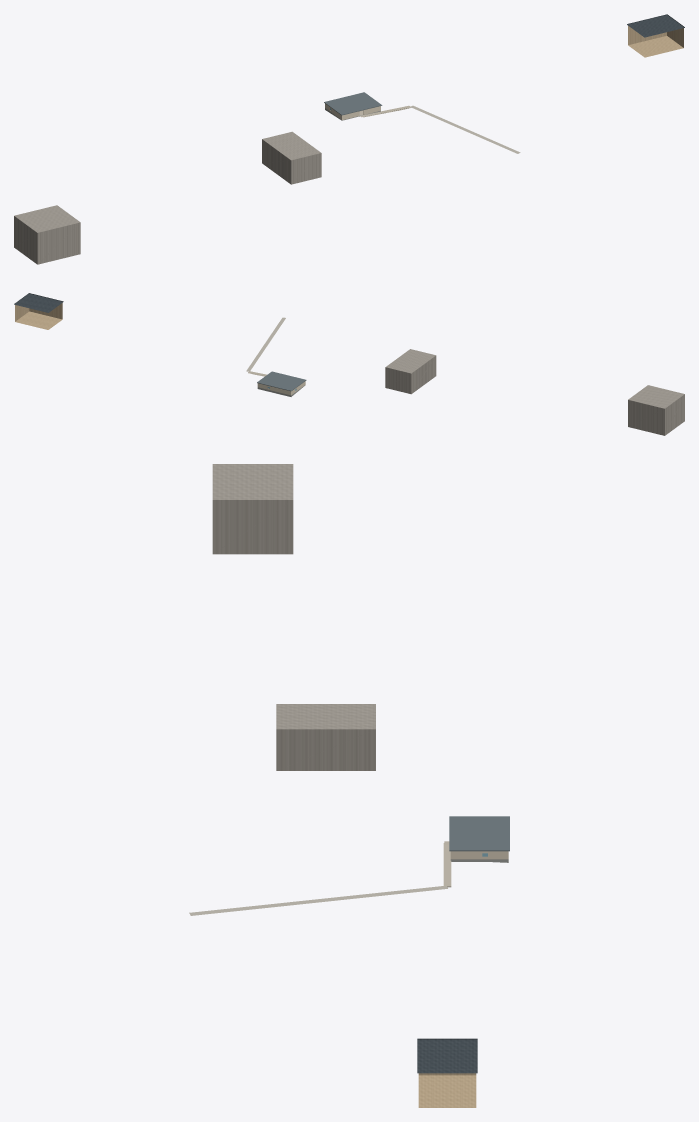
The model's file is cell_0_-5_lod1.gltf.
The picture shows the model from 3 angles, top to bottom: view 1: azimuth 30°, elevation 25°; view 2: azimuth 150°, elevation 25°; view 3: azimuth 270°, elevation 25°; orthographic projection. The views are drawn at different scales.
Visible parts, largest first — view 1: MASS_YABA_002, YABA_SMALL_OFFICE_BLOCKOUT_01, PLAYER_HOME_ROOF, YABA_SMALL_OFFICE_BLOCKOUT_01_ROOF; view 2: MASS_YABA_002, YABA_SMALL_OFFICE_BLOCKOUT_01, PLAYER_HOME_ROOF, YABA_SMALL_OFFICE_BLOCKOUT_01_ROOF, PATH_SPAWN_TO_HOME_3; view 3: MASS_YABA_002, PLAYER_HOME_ROOF, YABA_SMALL_OFFICE_BLOCKOUT_01_ROOF, YABA_SMALL_OFFICE_BLOCKOUT_01, PATH_SPAWN_TO_HOME_3.
Part boxes in pixels (left/top/right/bottom): MASS_YABA_002: left=14, top=131, right=321, bottom=264; YABA_SMALL_OFFICE_BLOCKOUT_01: left=628, top=26, right=683, bottom=57; PLAYER_HOME_ROOF: left=324, top=92, right=382, bottom=115; YABA_SMALL_OFFICE_BLOCKOUT_01_ROOF: left=627, top=14, right=684, bottom=37; MASS_YABA_002: left=385, top=349, right=684, bottom=435; YABA_SMALL_OFFICE_BLOCKOUT_01: left=15, top=303, right=62, bottom=329; PLAYER_HOME_ROOF: left=257, top=371, right=306, bottom=391; YABA_SMALL_OFFICE_BLOCKOUT_01_ROOF: left=14, top=293, right=63, bottom=312; PATH_SPAWN_TO_HOME_3: left=246, top=317, right=285, bottom=371; MASS_YABA_002: left=212, top=464, right=375, bottom=770; PLAYER_HOME_ROOF: left=449, top=816, right=509, bottom=851; YABA_SMALL_OFFICE_BLOCKOUT_01_ROOF: left=417, top=1038, right=477, bottom=1073; YABA_SMALL_OFFICE_BLOCKOUT_01: left=418, top=1073, right=476, bottom=1107; PATH_SPAWN_TO_HOME_3: left=189, top=886, right=447, bottom=915.
Size of the model in its own units: 434 by 18.82 by 99.69.
Materials: 16 (3 with a texture image).
